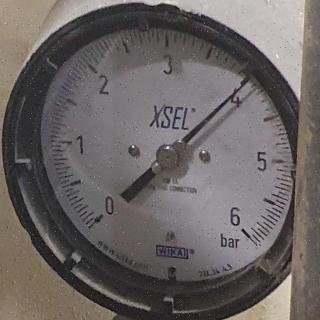gauge: (0, 1, 318, 320), (82, 191, 122, 237), (154, 143, 182, 171), (230, 216, 254, 244), (238, 72, 254, 88)
